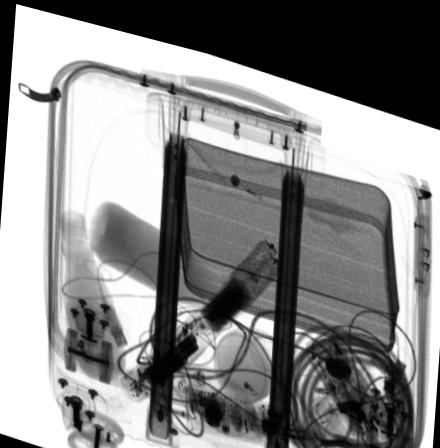Baton: (119, 225, 282, 396)
